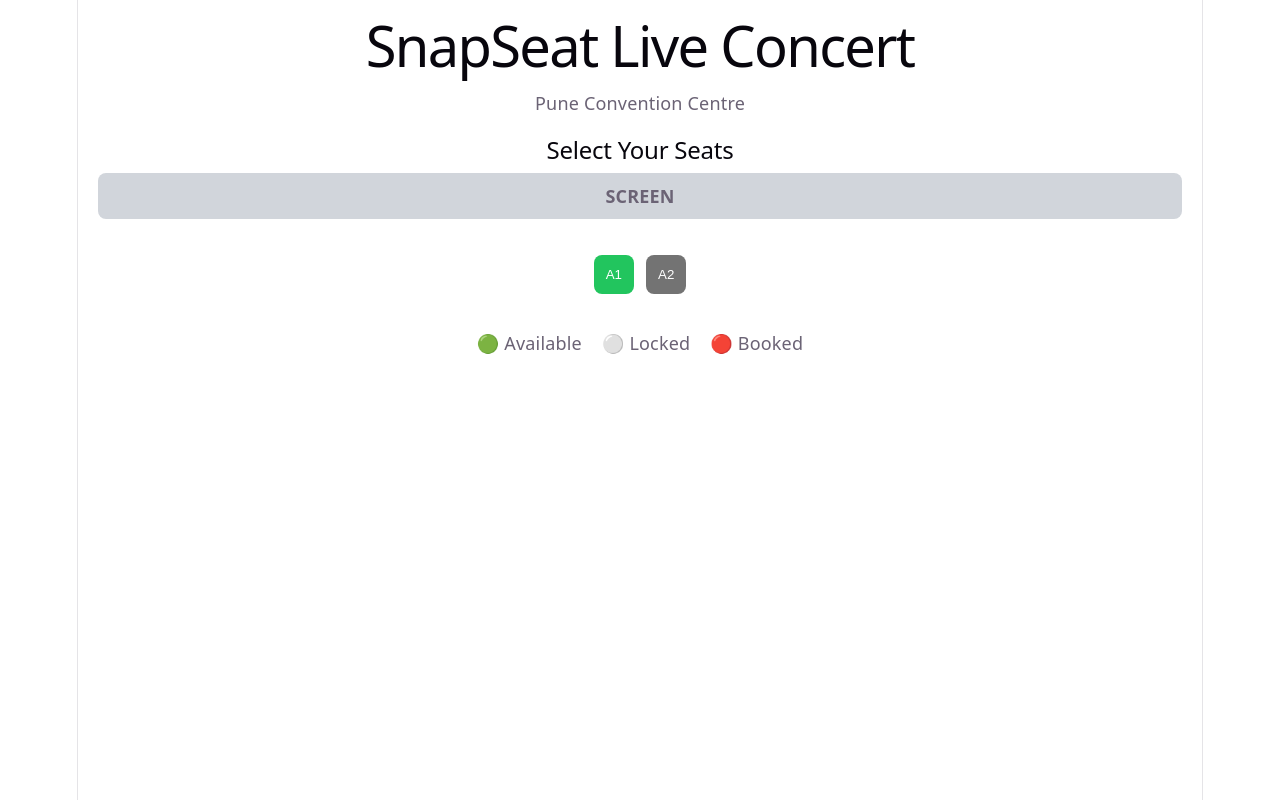
Test case: EventDetails Component › should confirm booking and mark seat as booked after successful payment
Click the button "A1" at coordinates (614, 274), box x1=594 y1=255 x2=634 y2=294
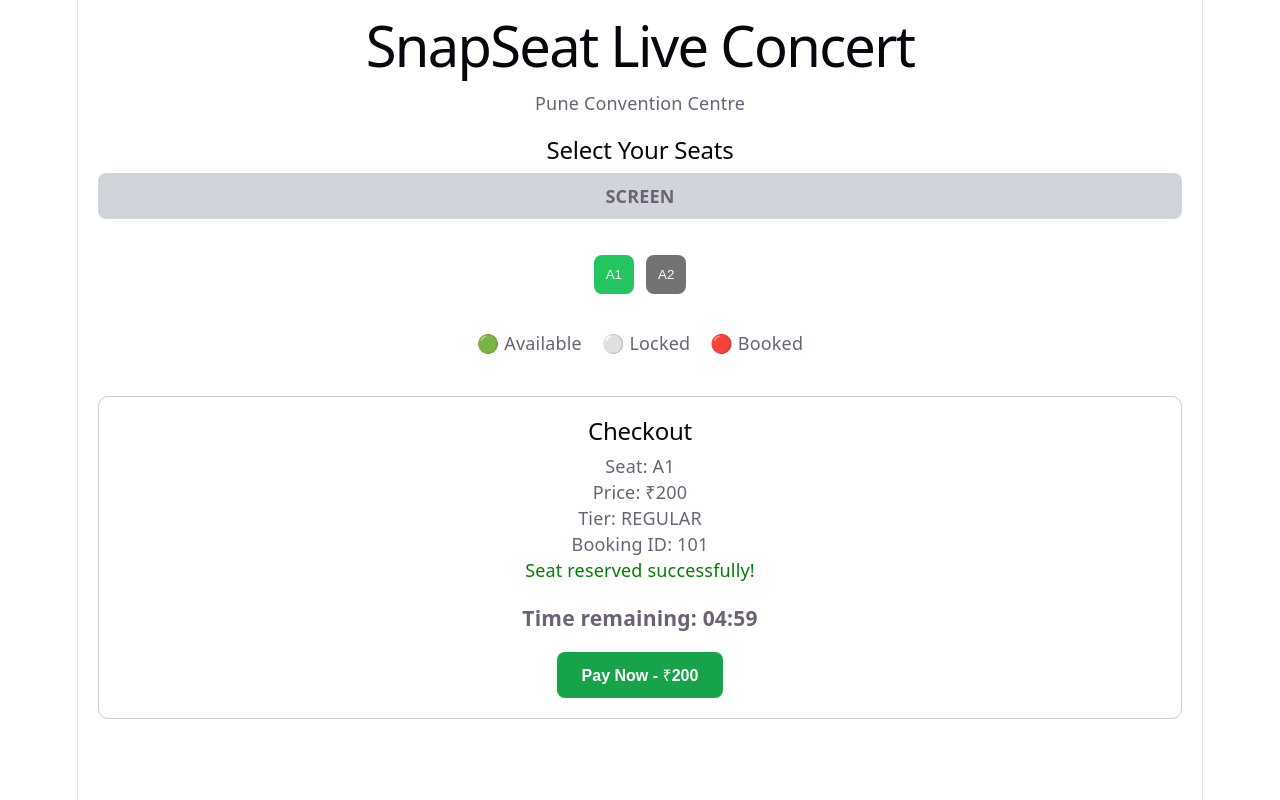
Click the button "Pay Now - ₹200" at coordinates (640, 675), box x1=557 y1=652 x2=723 y2=698
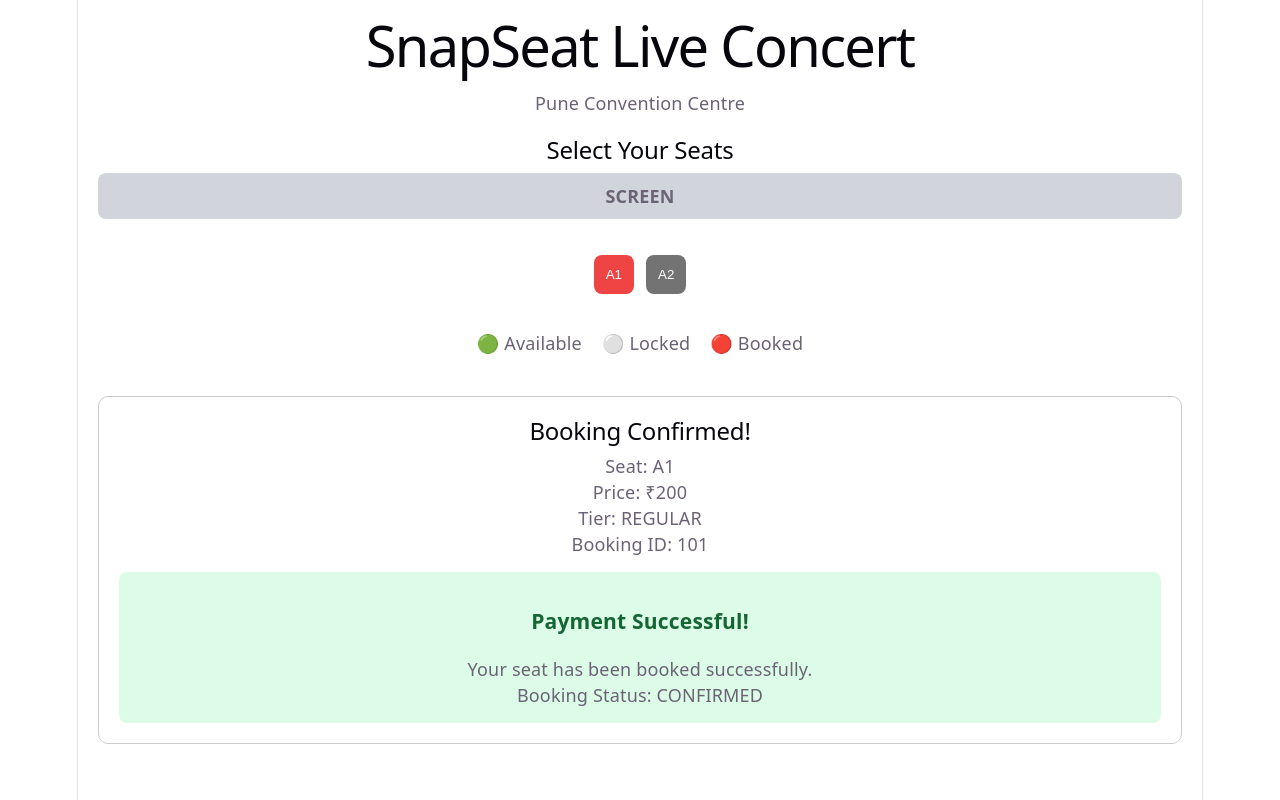
Now the heading "Payment Successful!" is shown, box x1=531 y1=606 x2=749 y2=635
Now the button "A1" is disabled, box x1=594 y1=255 x2=634 y2=294
